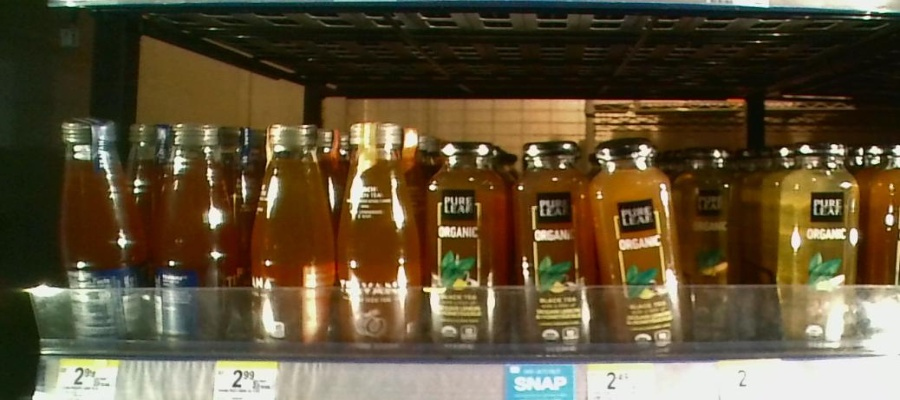bottle: (54, 113, 149, 349), (151, 116, 242, 353), (422, 134, 511, 358), (244, 122, 331, 351), (336, 118, 420, 351), (597, 133, 681, 361), (512, 134, 594, 361), (777, 136, 858, 348), (681, 140, 741, 343)
